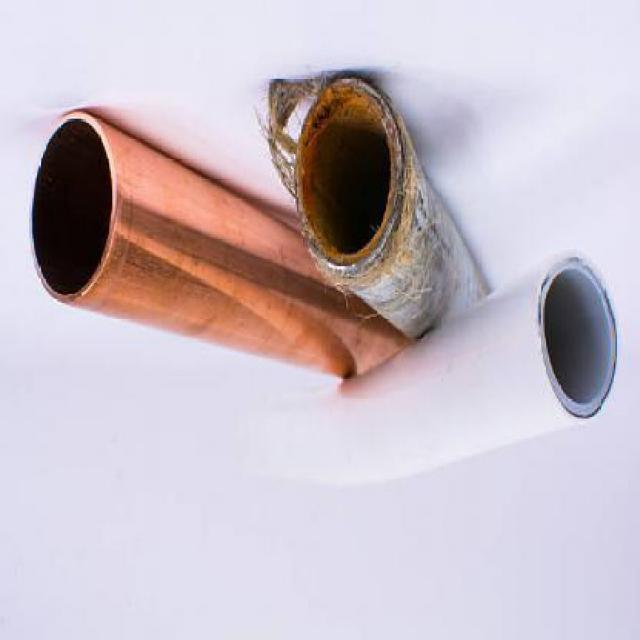pipe: (295, 79, 400, 268), (29, 113, 117, 302), (537, 256, 619, 422)
